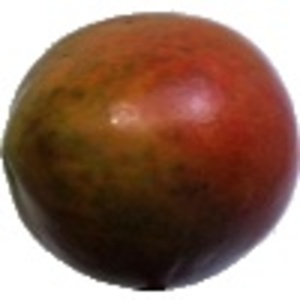manga: (1, 11, 300, 291)
